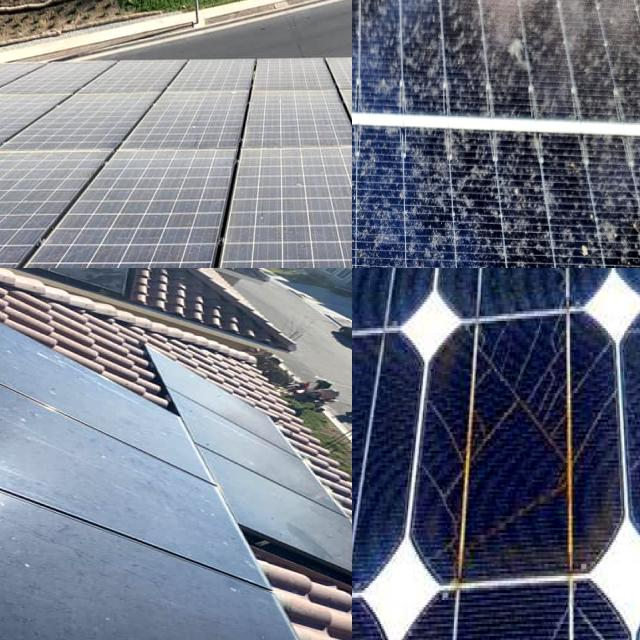dust: (352, 124, 640, 268), (352, 3, 640, 110), (110, 156, 210, 268), (249, 154, 352, 259), (239, 328, 352, 420), (104, 62, 323, 92), (262, 91, 346, 136), (168, 89, 234, 142), (0, 158, 18, 268), (70, 101, 108, 141), (0, 64, 21, 135), (271, 268, 352, 283)
shadow: (429, 362, 623, 586)
